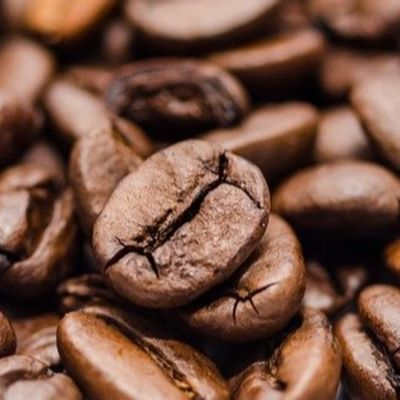salad: (92, 138, 271, 311)
